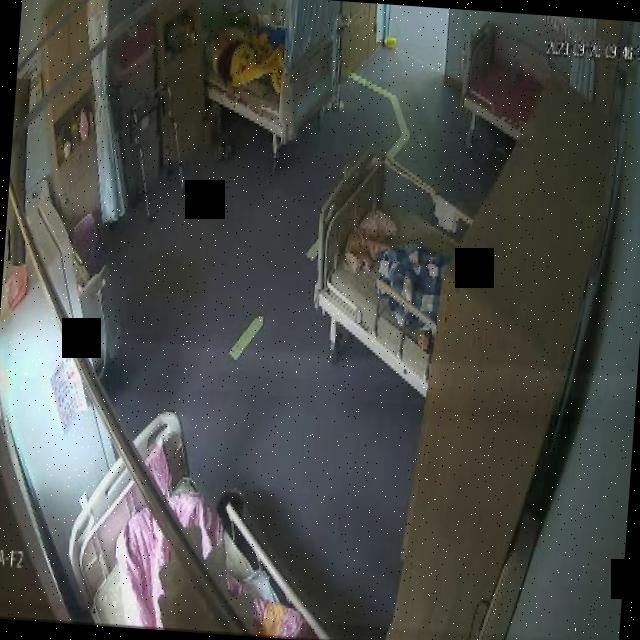bed: (64, 405, 310, 639), (306, 144, 456, 396), (200, 9, 335, 144), (448, 20, 545, 130)
walker: (121, 78, 197, 228)
